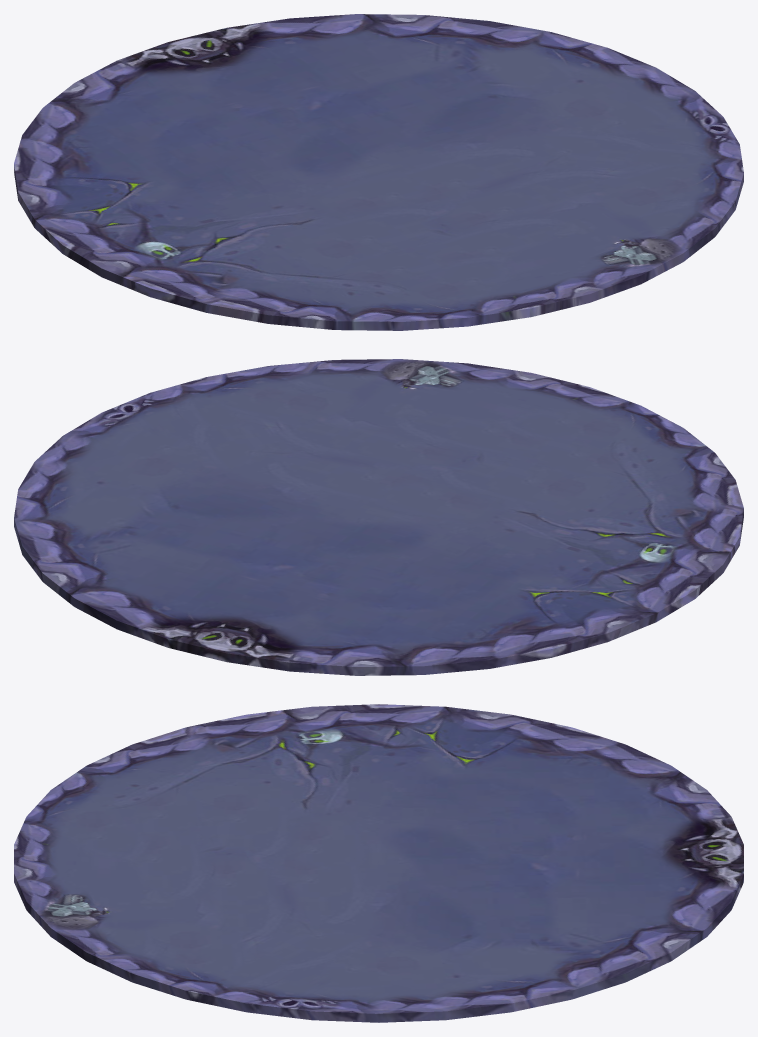
File: Board_3.fbx
The picture shows the model from 3 angles, top to bottom: view 1: azimuth 30°, elevation 25°; view 2: azimuth 150°, elevation 25°; view 3: azimuth 270°, elevation 25°; orthographic projection.
Visible parts, largest first — view 1: Board_3; view 2: Board_3; view 3: Board_3.
Boxes of the visible parts, x1,y1,x2,y2 form: Board_3: [14, 14, 743, 330]; Board_3: [14, 359, 743, 675]; Board_3: [14, 704, 743, 1022].
Bounding box in the file's own units: 1500 × 20 × 1494.
Materials: 1 (1 with a texture image).
